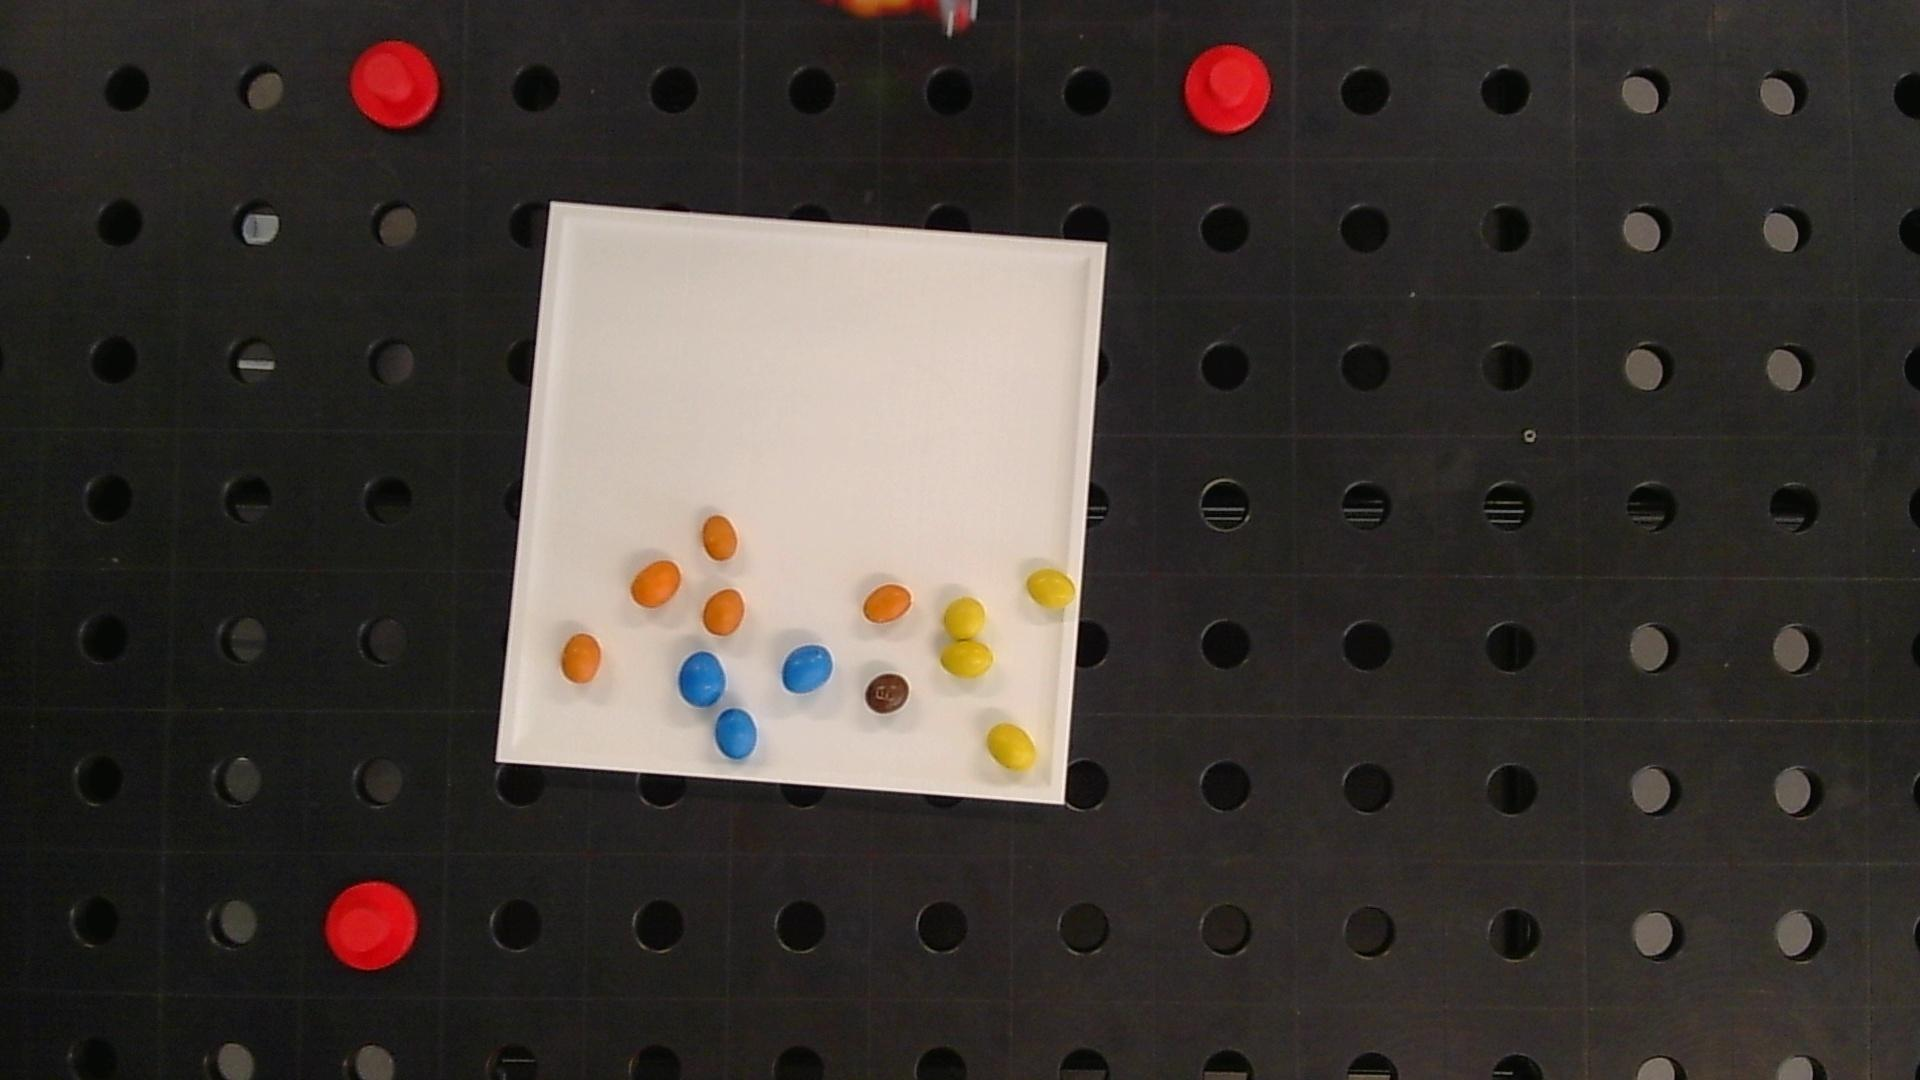blue: (679, 651, 725, 707), (782, 645, 832, 694), (715, 708, 757, 760)
brown: (865, 673, 910, 713)
orange: (630, 559, 680, 608), (560, 633, 601, 683), (862, 583, 913, 622), (703, 588, 744, 634), (702, 516, 738, 560)
yellow: (986, 724, 1038, 770), (1026, 568, 1076, 609), (940, 642, 994, 678), (944, 597, 986, 640)
